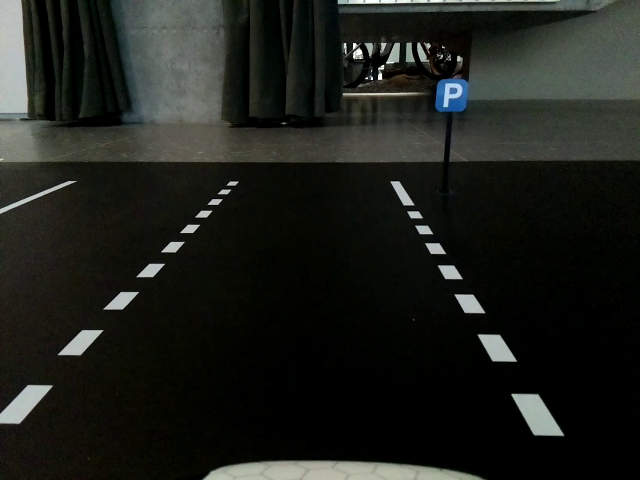park: (436, 80, 466, 113)
